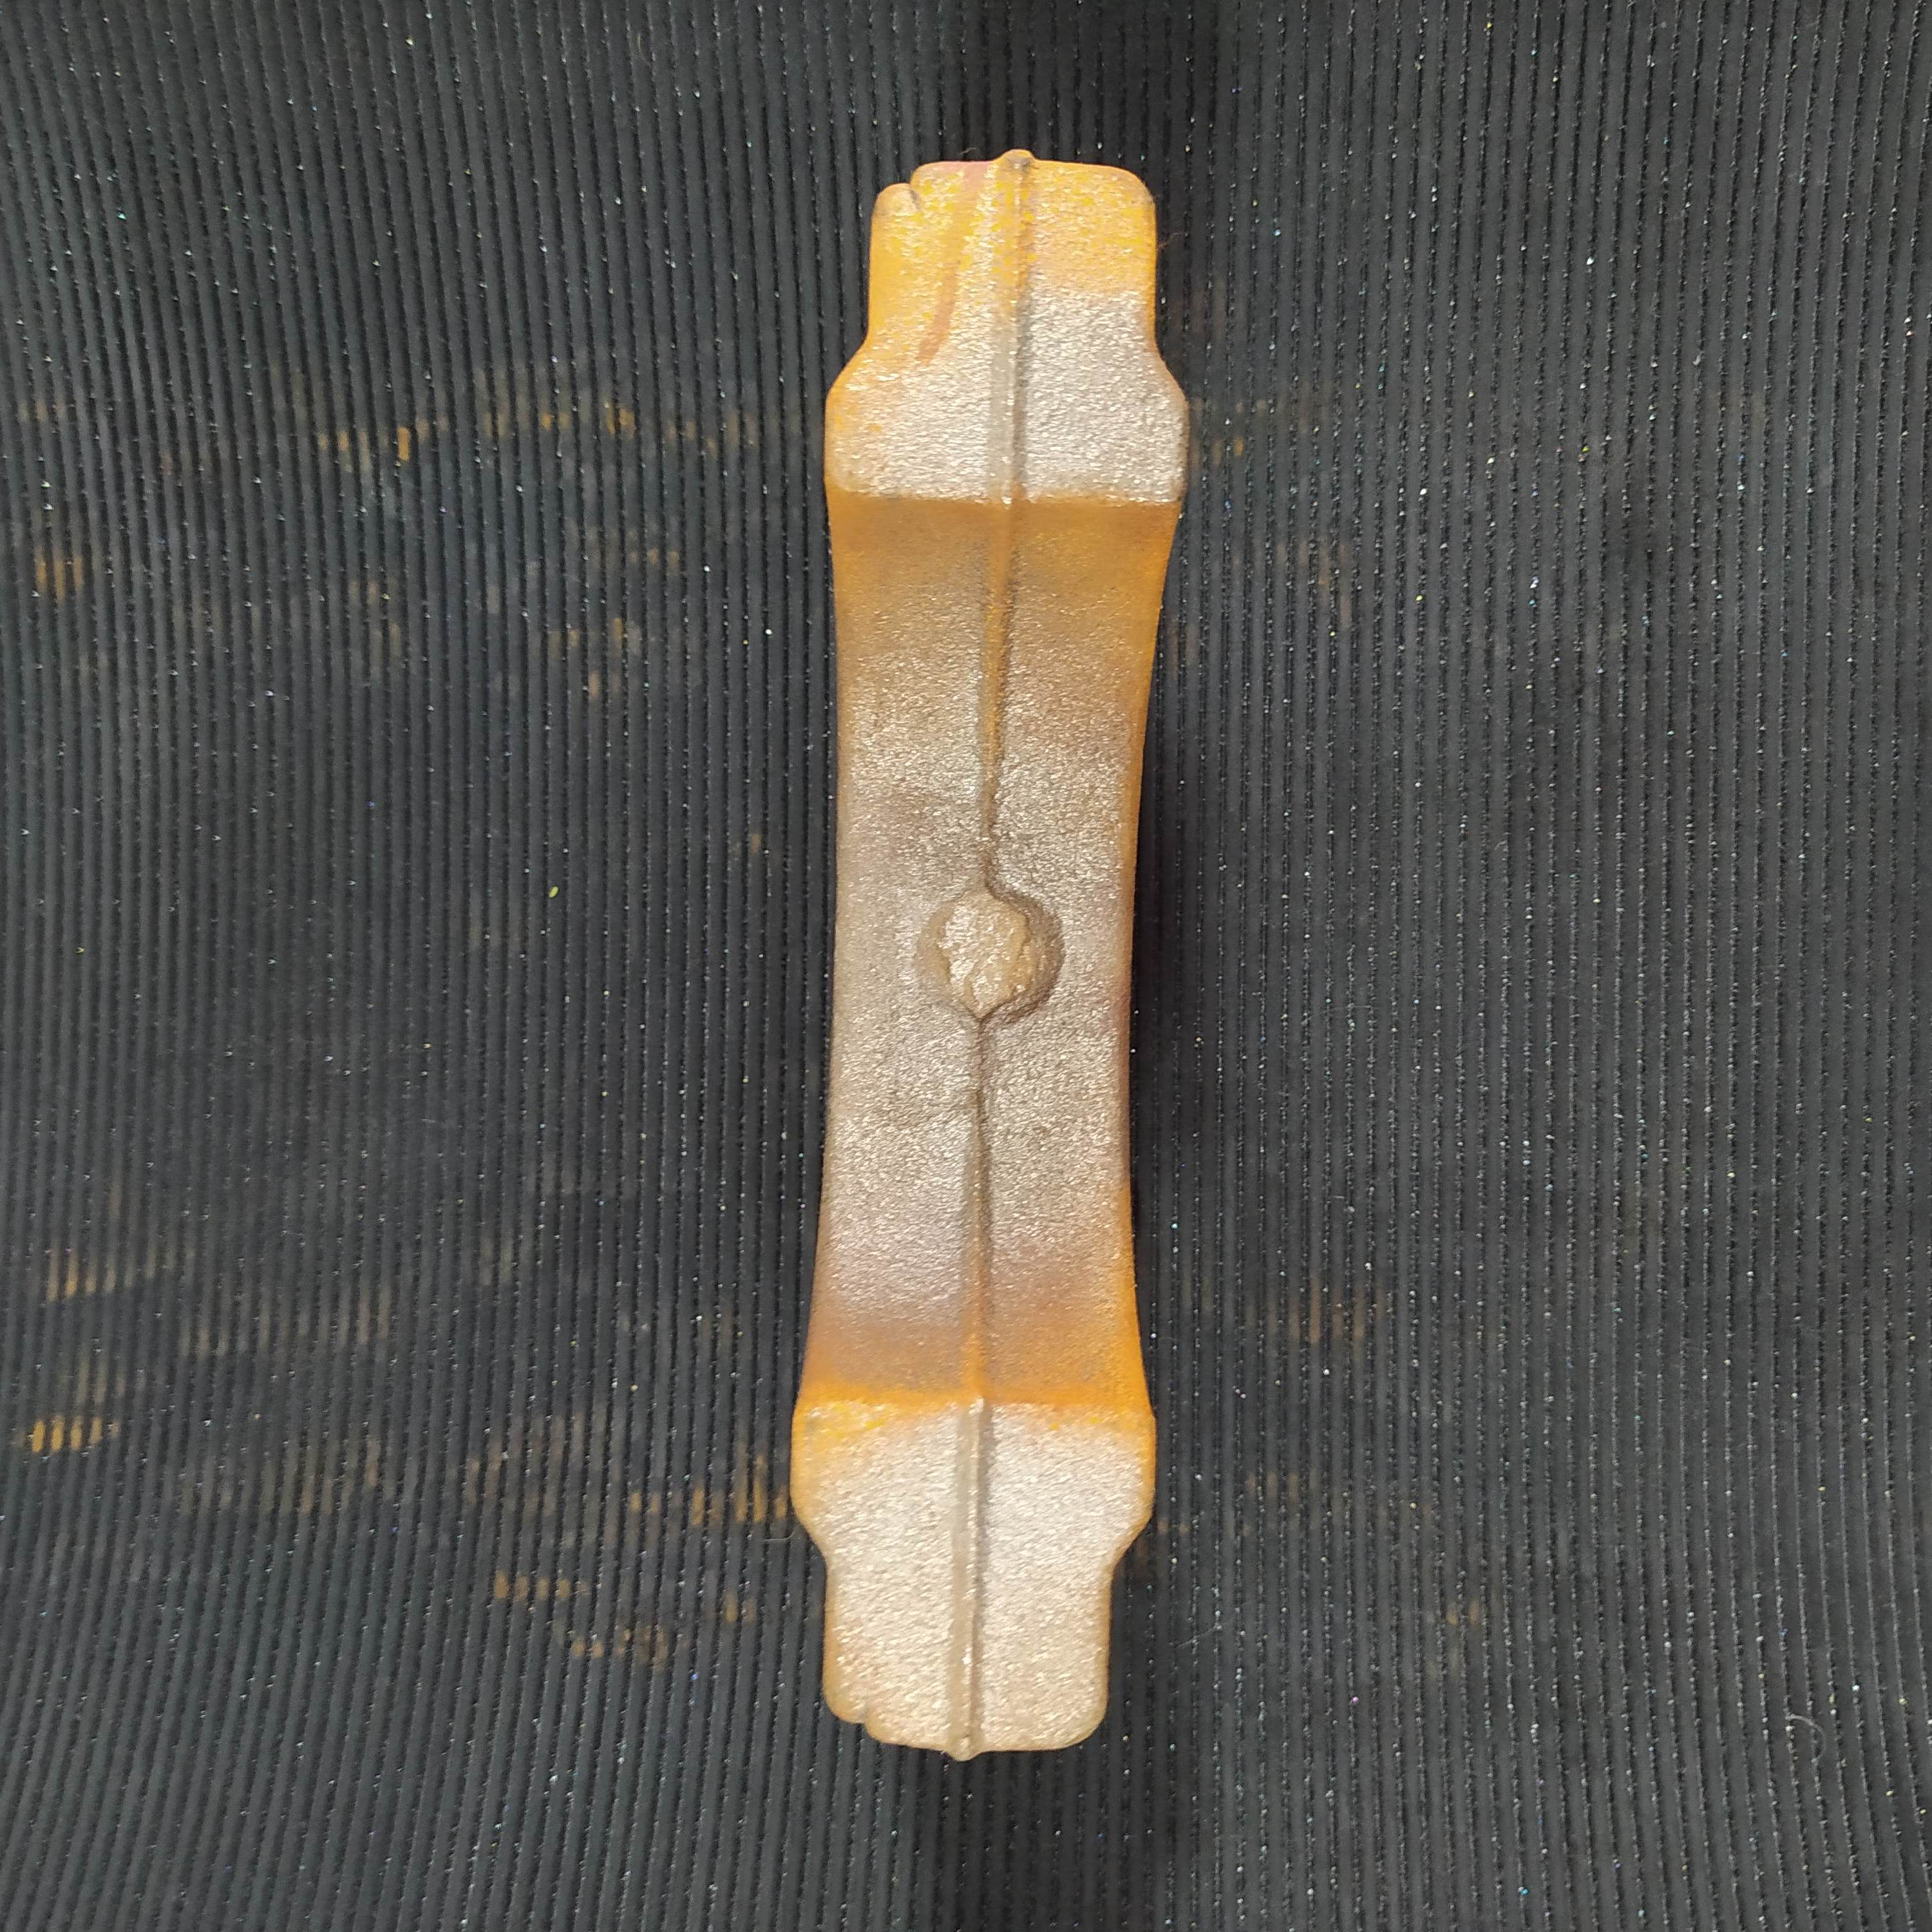rechupe: (890, 157, 934, 212), (842, 1702, 879, 1743)
